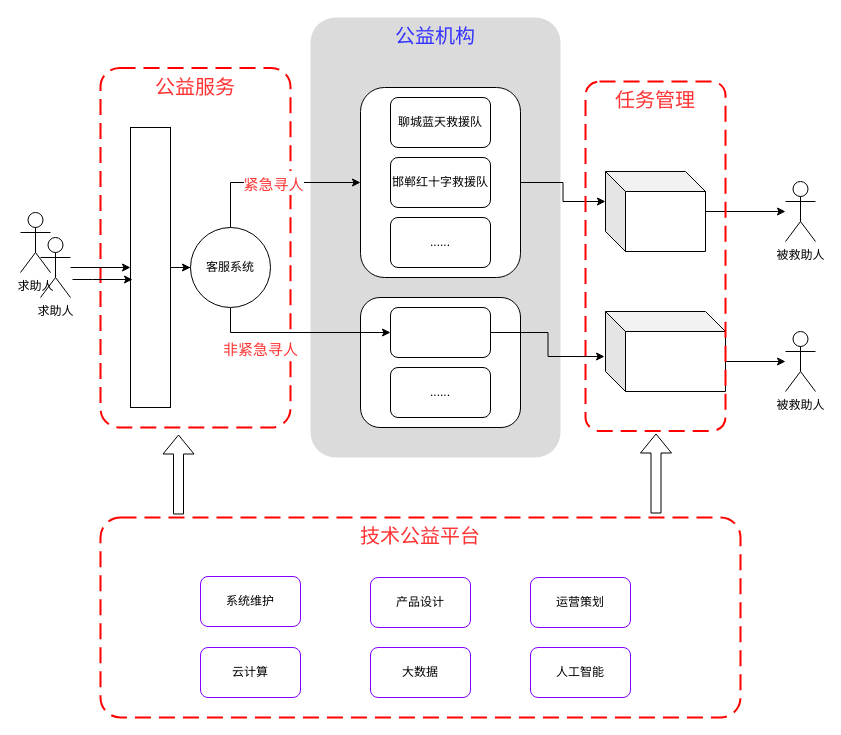
This 841x735 diagram has some shape labels left out. Here are the shapes that lost their labels. From the top down, the centre of each, then its label:
At pixel 655 211: "救援调度系统".
At pixel 150 267: "救助入口".
At pixel 440 332: "宝贝回家".
At pixel 665 351: "走访系统".
